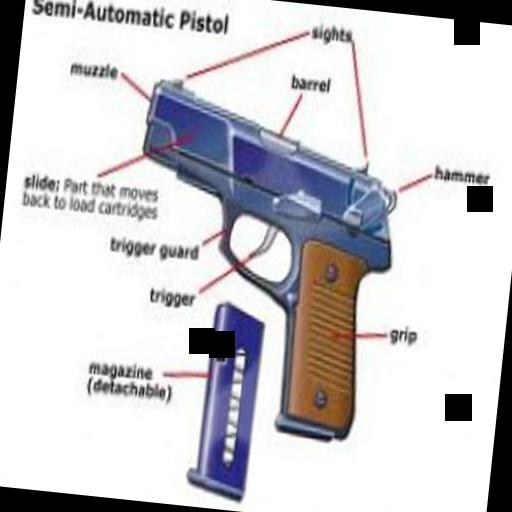Handgun: (102, 71, 410, 454)
